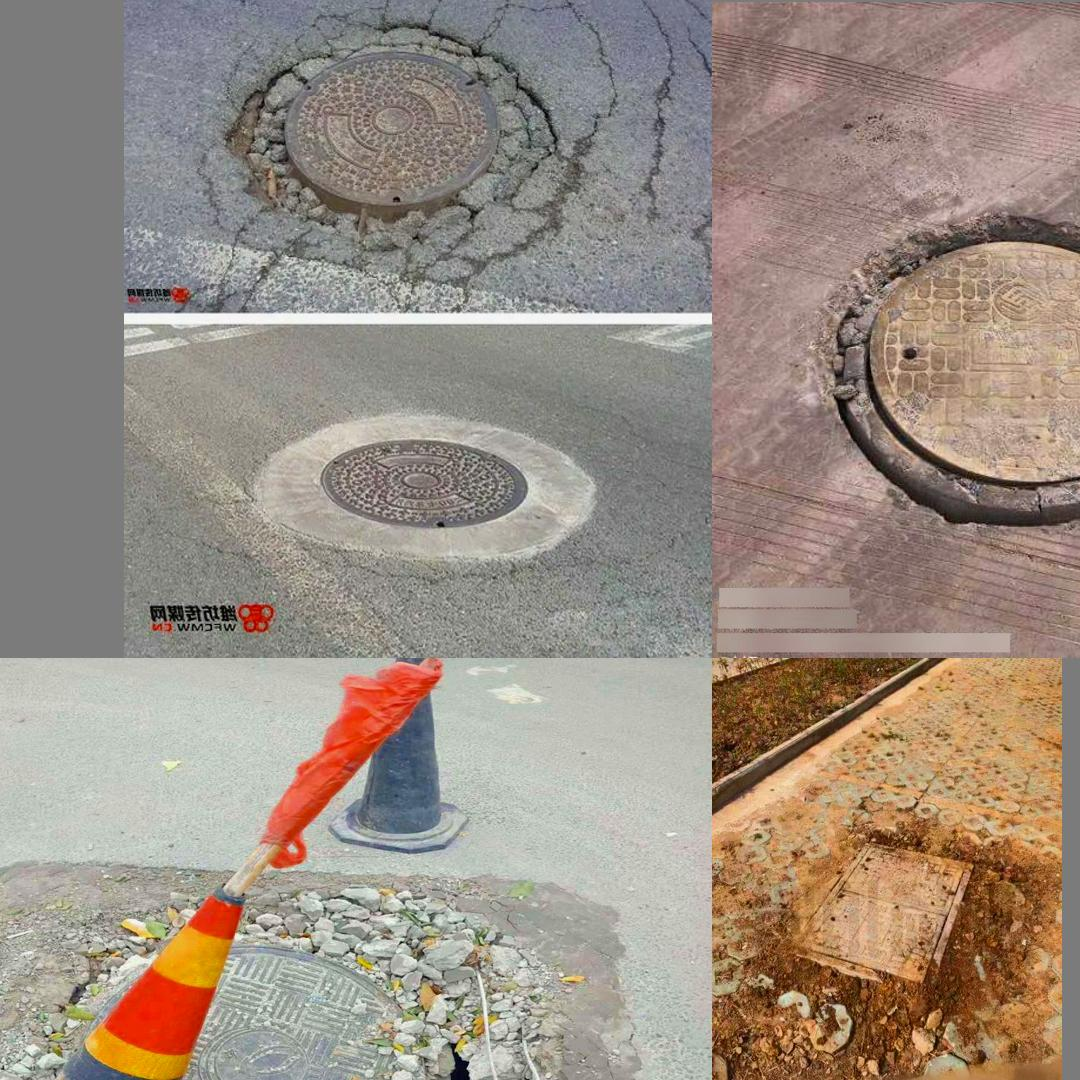circle: (198, 20, 577, 268), (823, 216, 1080, 533), (33, 937, 542, 1080), (776, 838, 989, 1010)
